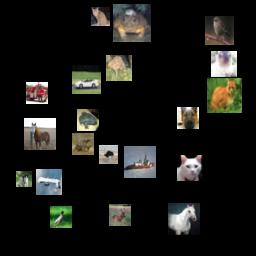airplane: (36, 169, 62, 195)
automobile: (72, 65, 101, 94)
bird: (205, 16, 234, 45), (50, 206, 72, 228), (99, 145, 118, 164)
cat: (207, 78, 242, 113), (177, 155, 203, 181), (211, 51, 237, 77), (91, 7, 110, 26), (16, 171, 32, 187)
deer: (72, 133, 94, 155), (109, 204, 131, 226)
dog: (177, 107, 199, 129)
frog: (113, 4, 151, 42), (106, 55, 132, 81), (77, 109, 99, 131)
ship: (124, 146, 156, 178)
truck: (26, 82, 48, 104)
